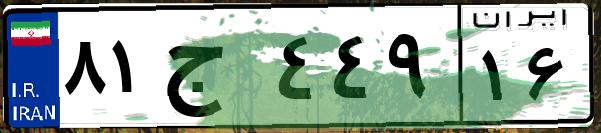1: (475, 38, 525, 113), (110, 28, 158, 98)
4: (270, 28, 330, 110), (330, 28, 385, 110)
6: (525, 38, 570, 115)
8: (57, 26, 110, 100)
9: (385, 28, 445, 110)
ج: (158, 20, 270, 120)
